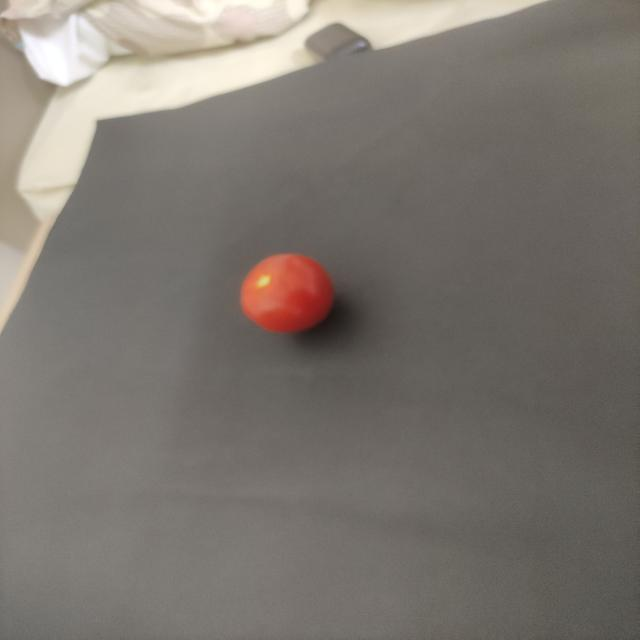kirmizi: (219, 235, 354, 353)
